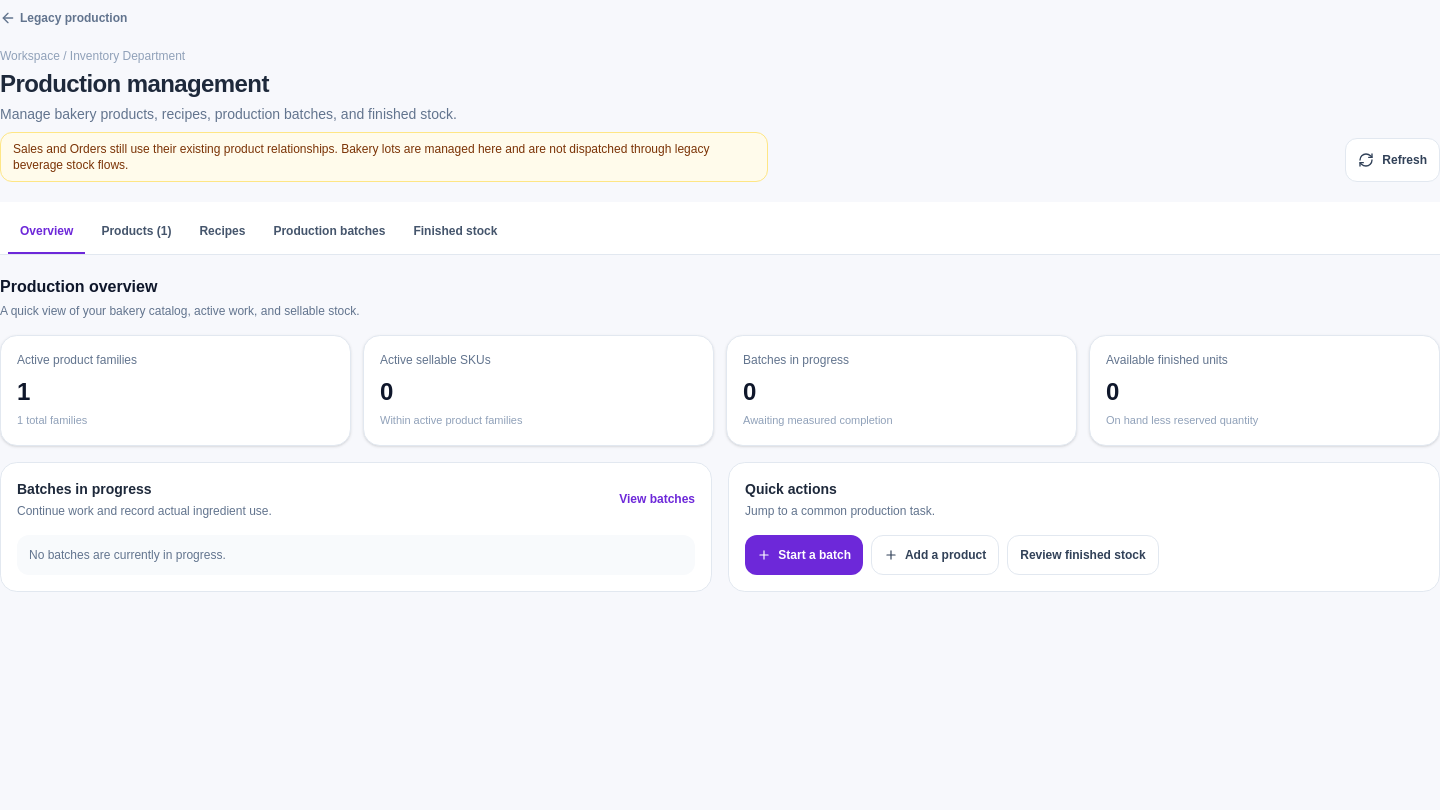
Test case: bakery product profile image › bakery product publication › saves customer-facing slug and description for a selected family
The width and height of the screenshot is (1440, 810).
Later steps or results of the test are not shown.
Click the tab "Products (1)" at (136, 232), box [89,210,183,254]
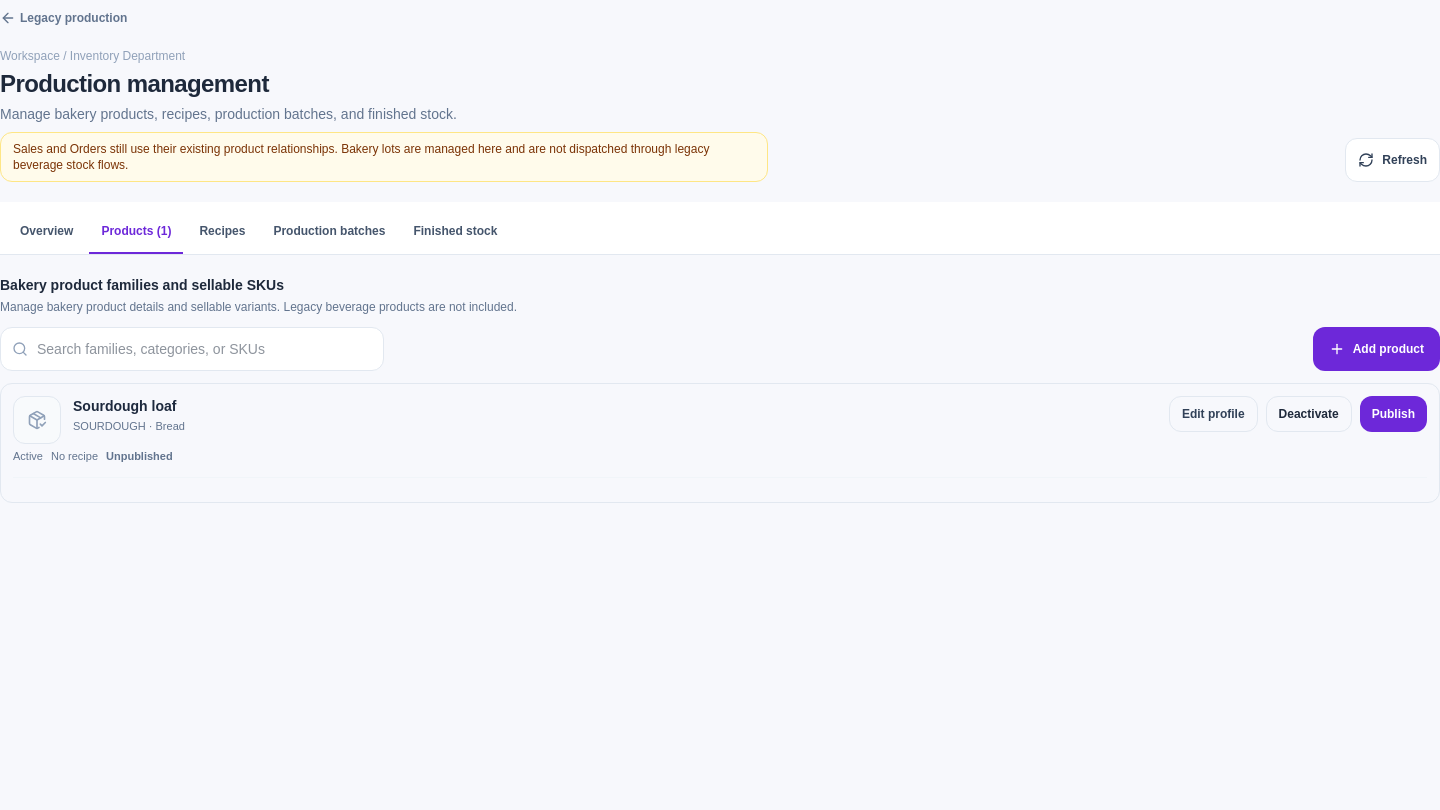
Click the button "Edit profile" at (1213, 414), box [1169,396,1258,432]
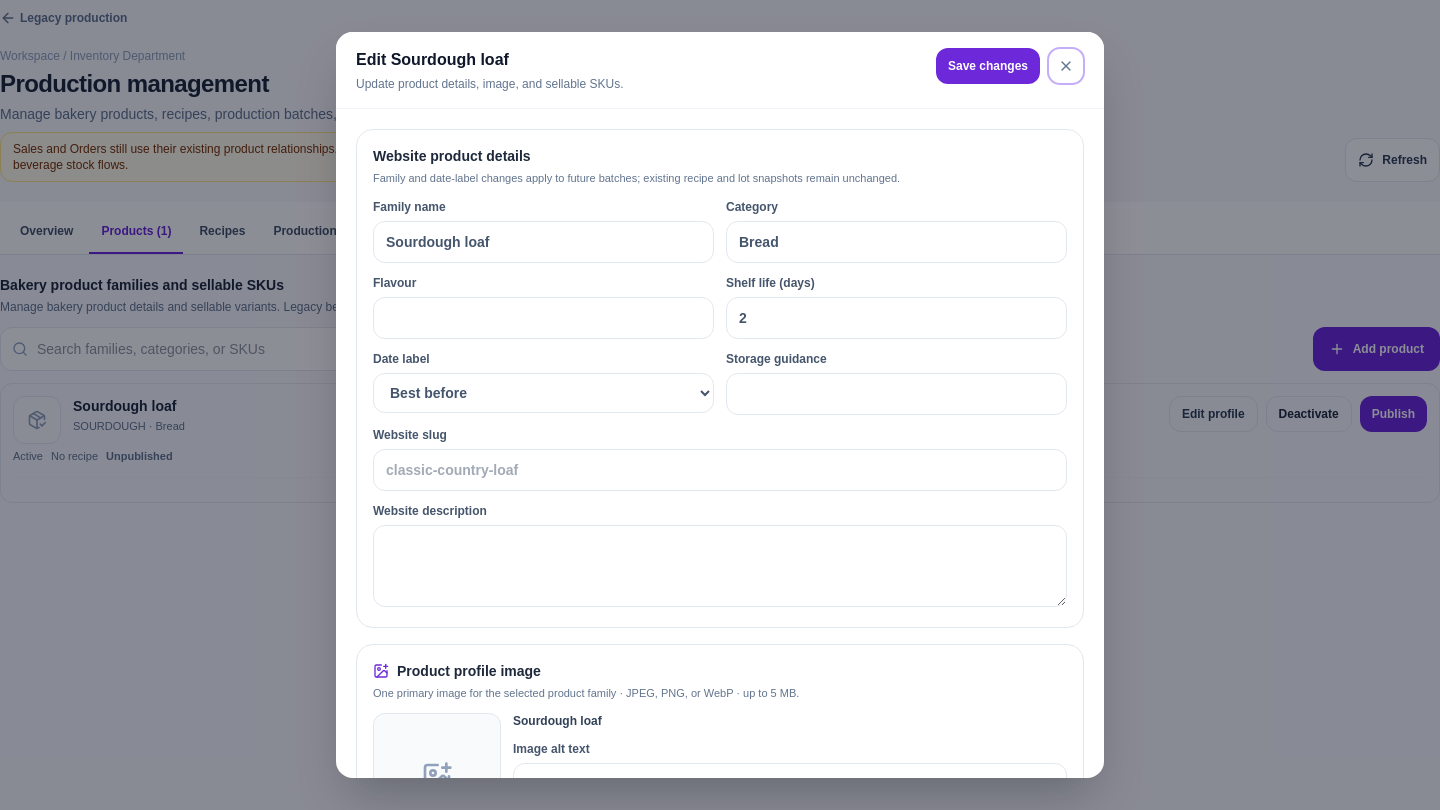
Expected: the dialog "Edit" is shown, [336,32,1104,778]
Expected: the heading "Website product details" is shown, [373,148,531,164]
